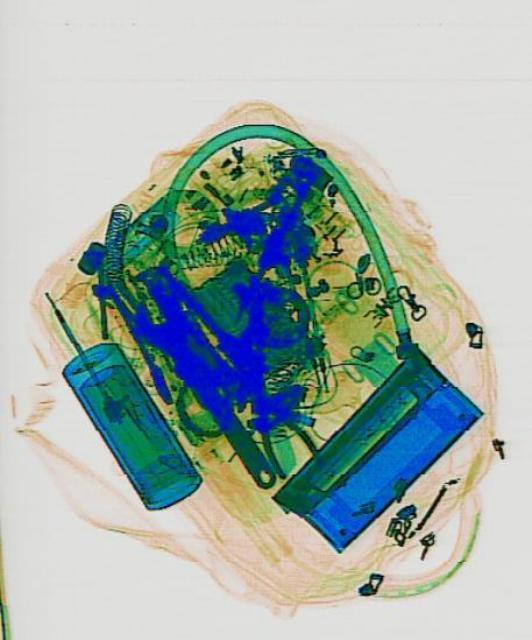Pliers: (234, 367, 322, 488)
Wrench: (124, 282, 288, 502)
